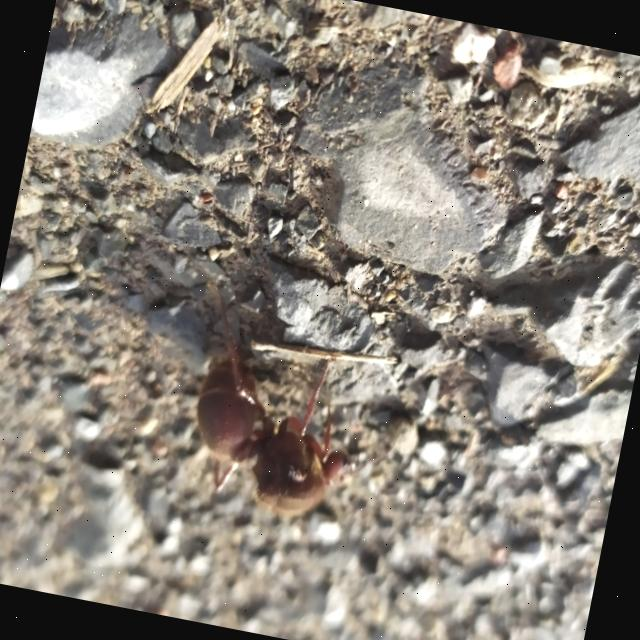Alive-Female-Dealate: (164, 277, 382, 532)
